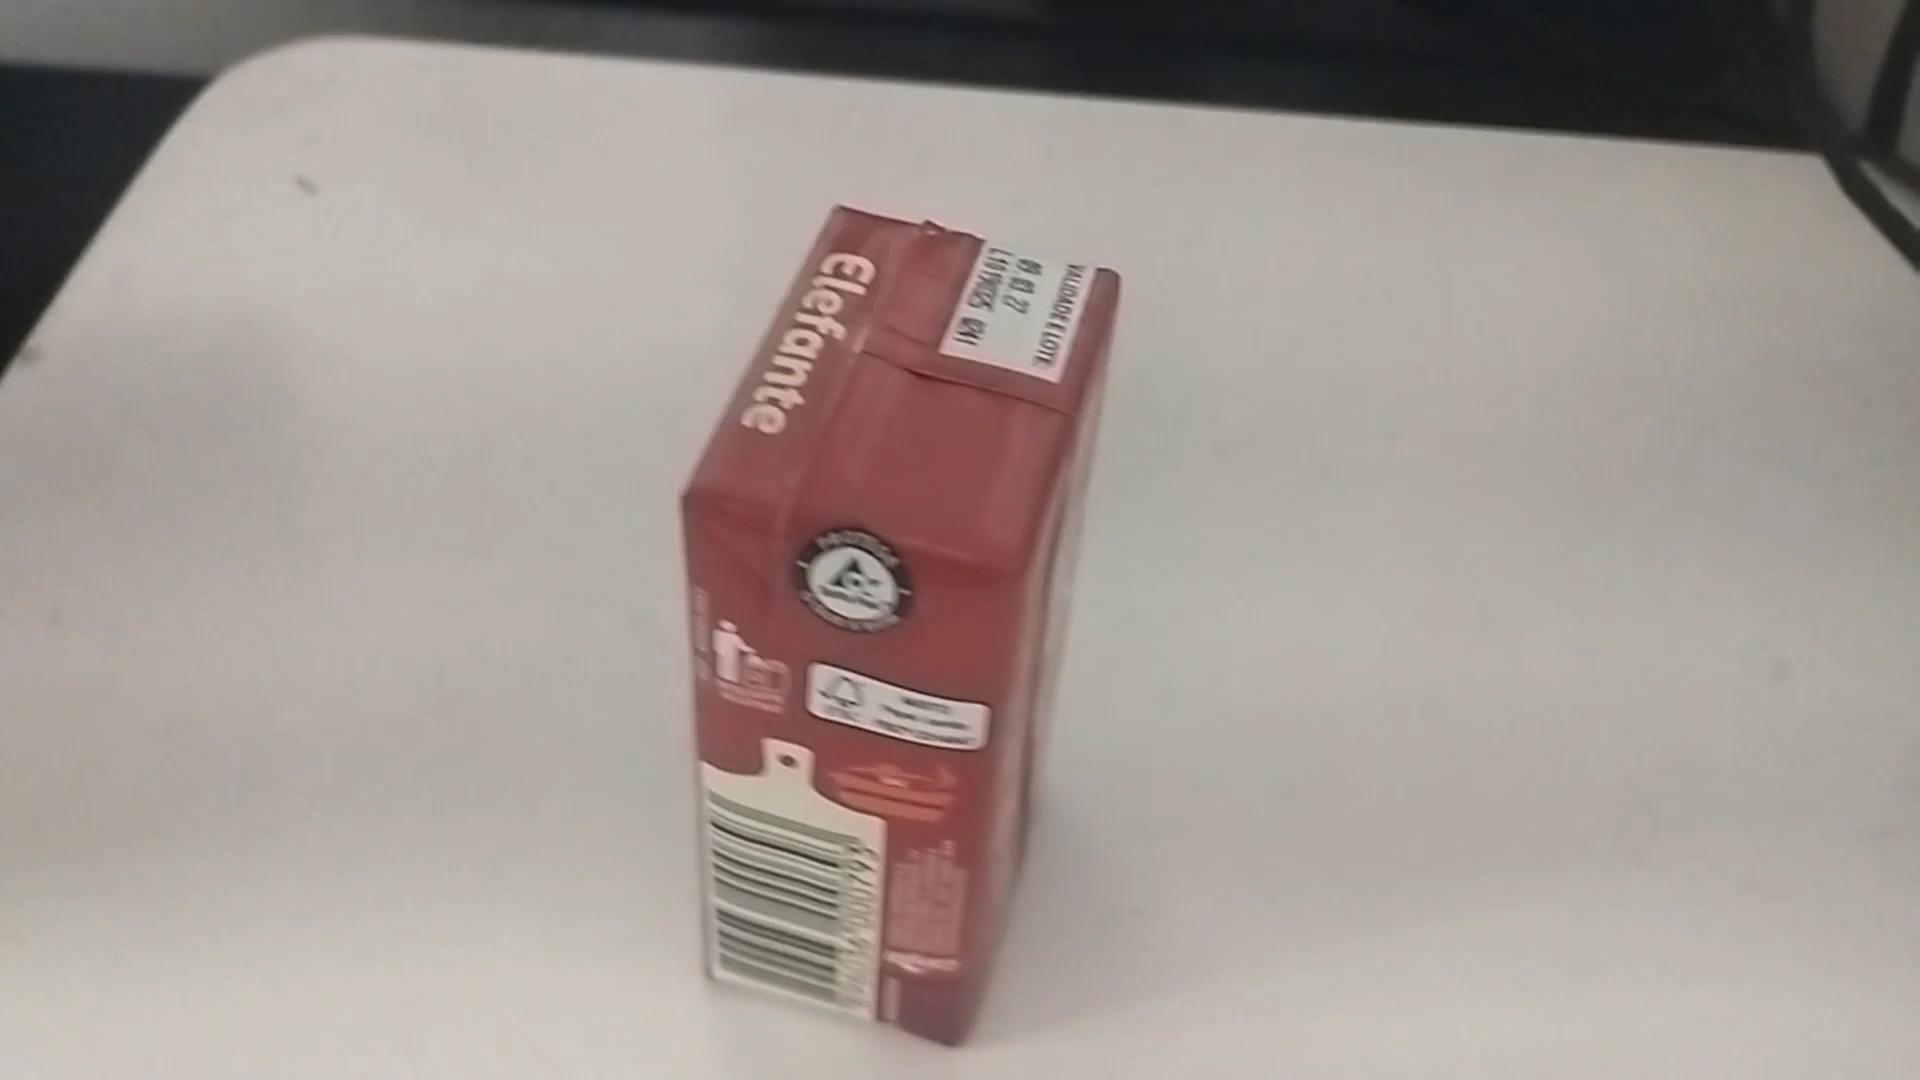tomate: (659, 194, 1141, 1052)
